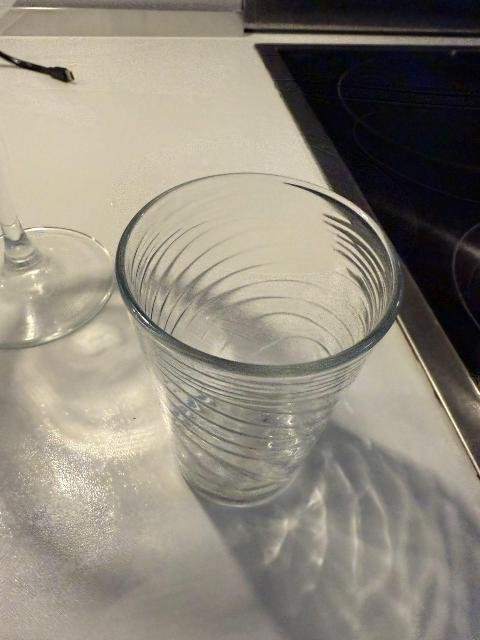Cam: (124, 172, 401, 511), (0, 209, 117, 353)
